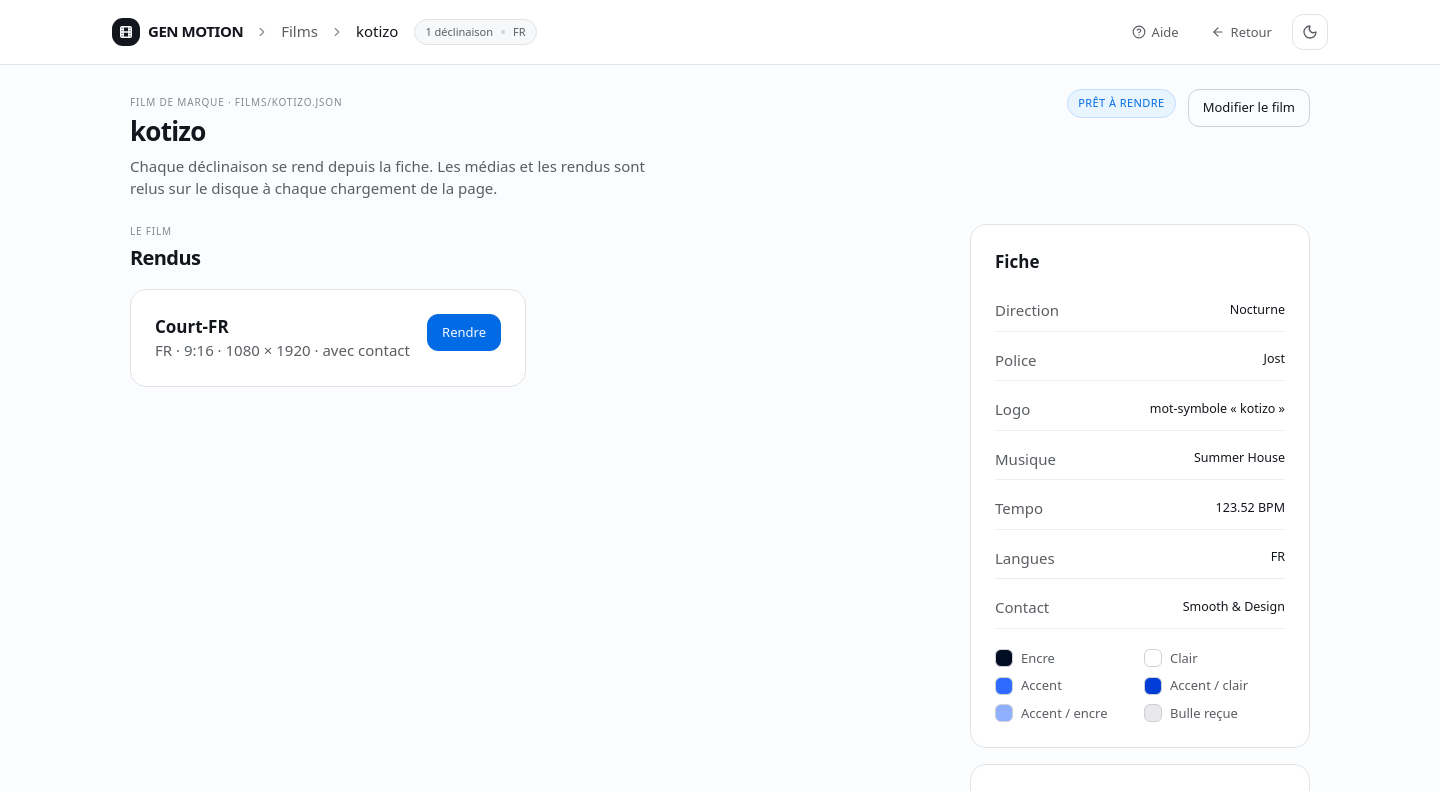
Scenario: rendu d'une déclinaison › un refus de la route affiche ses erreurs
Click the button "Rendre" at {"x": 464, "y": 332}, box [427,314,501,351]
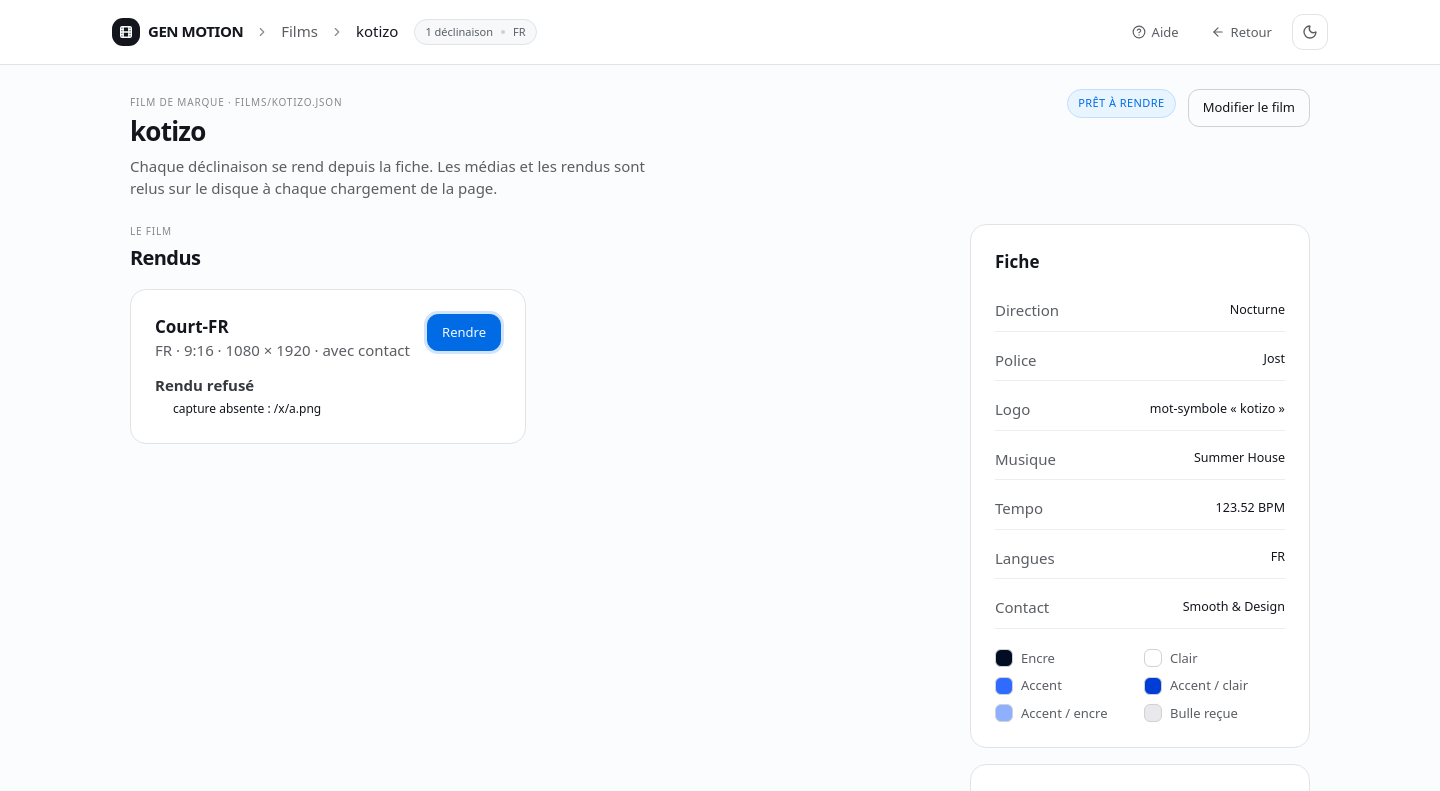
Expected: the message shows "Rendu refusé", [155,374,254,394]
Expected: the text "capture absente : /x/a.png" is shown, [173,400,321,417]
